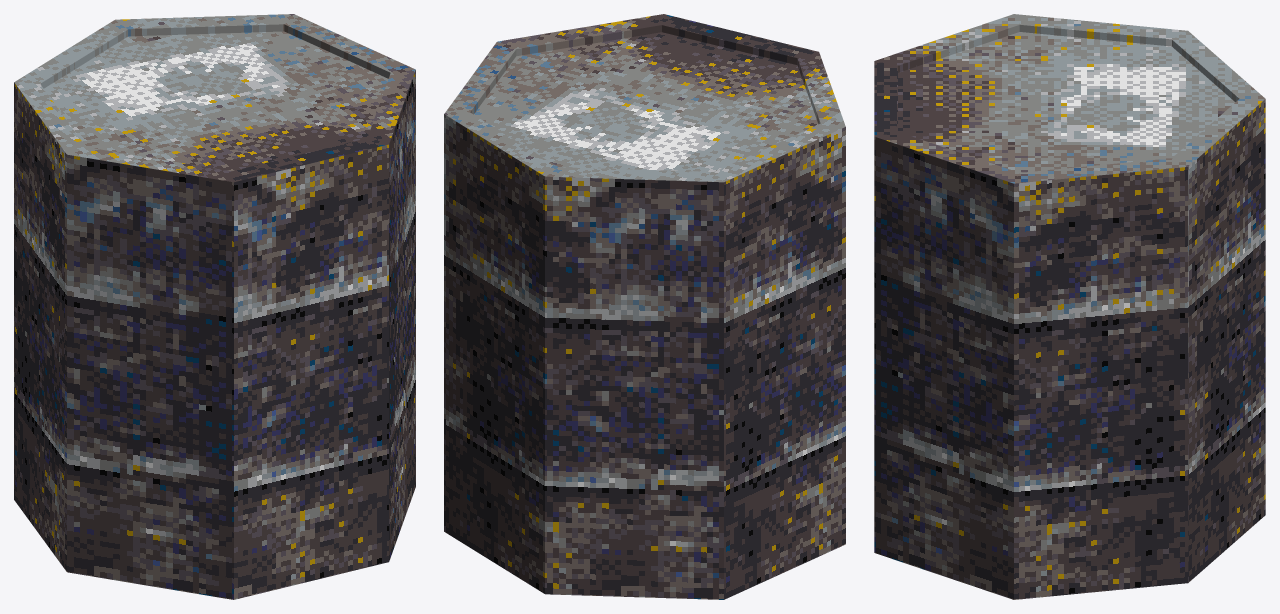
The model's file is Barrel_Grey.glb.
The picture shows the model from 3 angles, left to right: view 1: azimuth 30°, elevation 25°; view 2: azimuth 150°, elevation 25°; view 3: azimuth 270°, elevation 25°; orthographic projection.
Parts seen in each view (by area): view 1: Barrel_Grey; view 2: Barrel_Grey; view 3: Barrel_Grey.
Part boxes in pixels (x1,y1,x2,y2): Barrel_Grey: (14,14,415,599); Barrel_Grey: (444,14,845,599); Barrel_Grey: (874,14,1265,599).
Size of the model in its own units: 0.2535 by 0.29 by 0.2471.
1 material, 1 textured.
